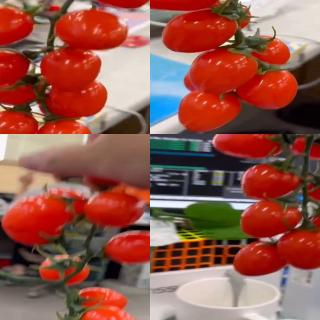tomato: (162, 9, 236, 55), (1, 200, 68, 246), (189, 49, 259, 93), (56, 10, 130, 51), (177, 89, 241, 133), (41, 46, 102, 92), (236, 69, 299, 113), (84, 188, 146, 229), (239, 161, 303, 200), (46, 79, 108, 119), (239, 200, 302, 238), (187, 0, 256, 30), (232, 240, 289, 275), (211, 134, 286, 159), (277, 227, 320, 268), (38, 253, 92, 284), (0, 70, 47, 105), (103, 229, 150, 263), (0, 6, 35, 48), (74, 286, 128, 312), (43, 189, 90, 218), (250, 37, 292, 67), (0, 48, 31, 87), (150, 0, 228, 14), (74, 305, 142, 320), (37, 117, 94, 134), (0, 110, 38, 134), (288, 134, 320, 161), (303, 172, 320, 203), (306, 207, 320, 244)
